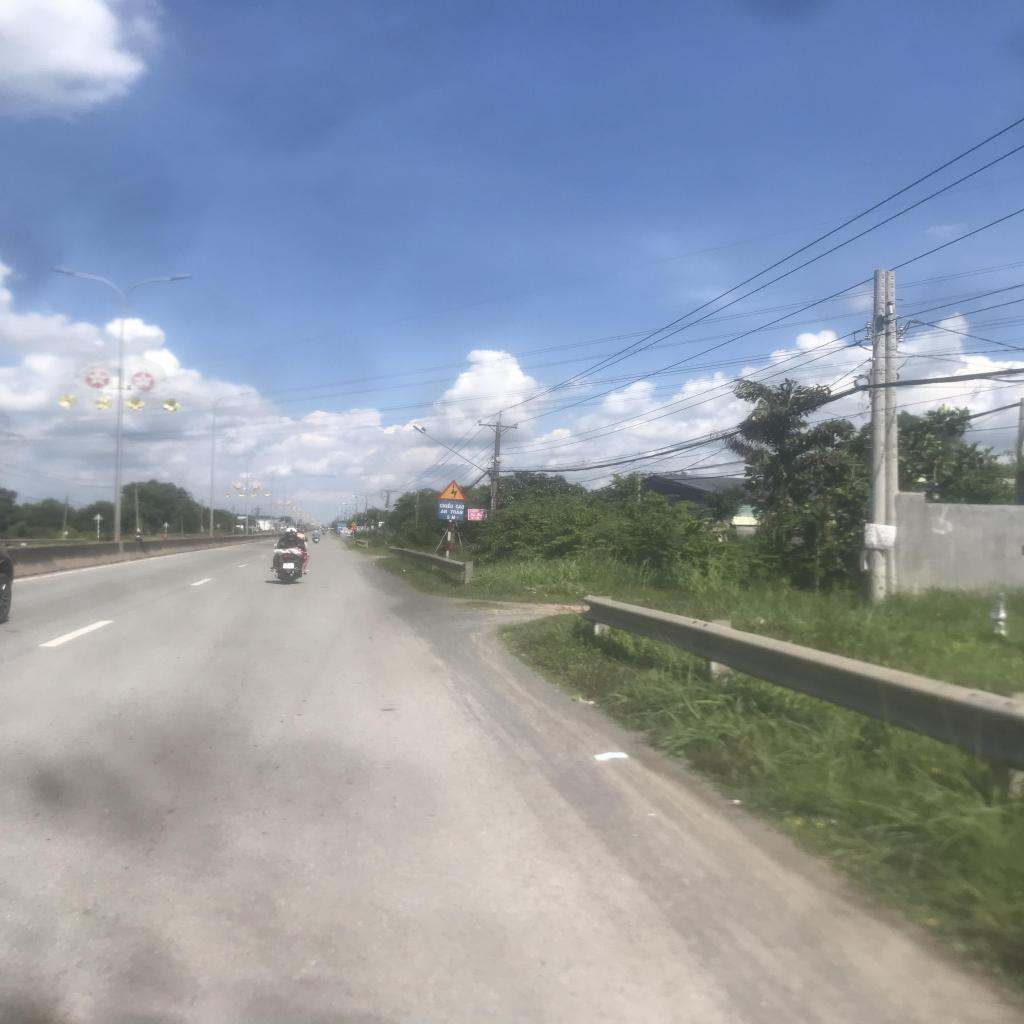chu_y_nguoi_di_bo_cat_ngang: (350, 521, 356, 526)
giao_nhau_voi_duong_khong_uu_tien: (350, 525, 357, 530)
khac: (436, 480, 468, 502)
